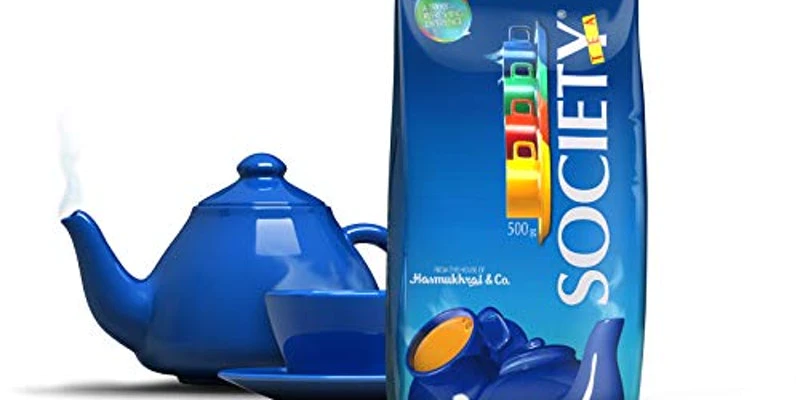society: (392, 3, 647, 400)
